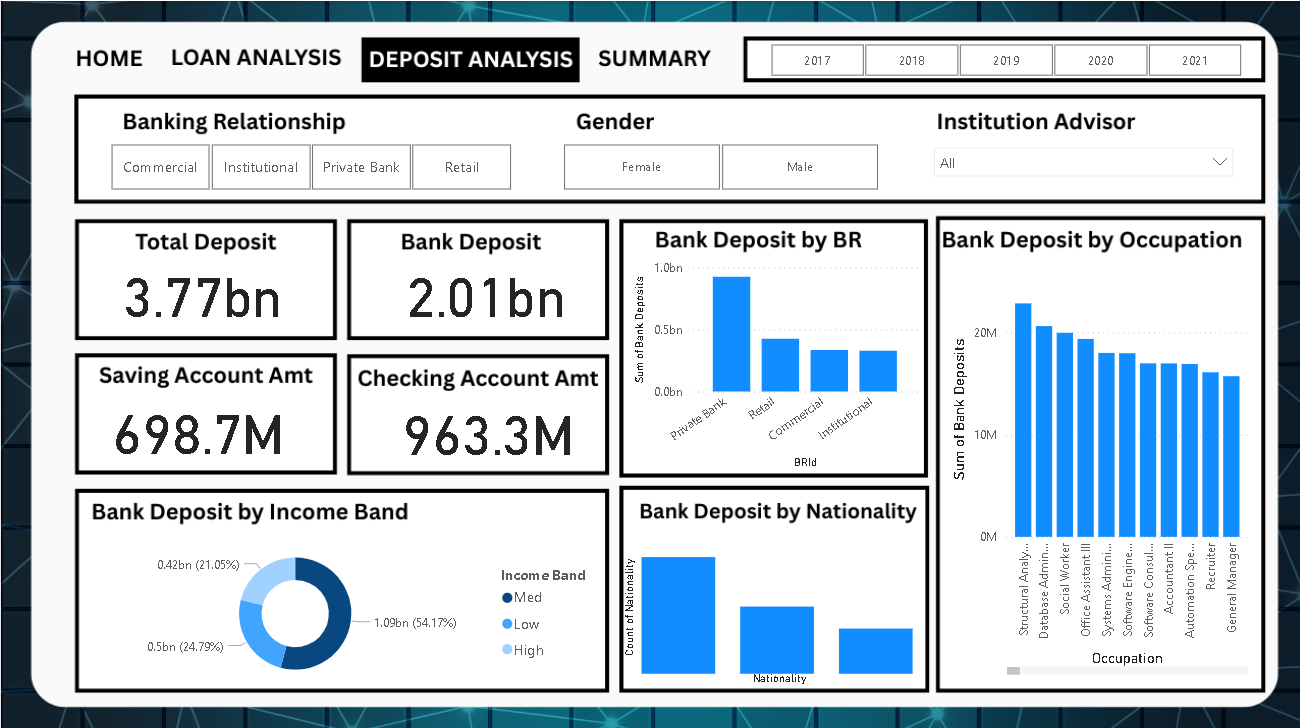

The page's visual inventory and layout, read from the dashboard file:
{"tool":"powerbi","page":{"name":"Deposit Analysis","canvas":[1280,720],"ordinal":2},"visuals":[{"type":"slicer","fields":{"Values":["banking_case customers.Year of Joining"]},"box":[729.5,35.2,511.6,44.7],"z":0},{"type":"actionButton","box":[66.3,39.3,87.1,44.2],"z":1000},{"type":"actionButton","box":[355.8,39.3,218.4,44.2],"z":2000},{"type":"actionButton","box":[582.8,39.3,122.7,44.2],"z":3000},{"type":"card","fields":{"Values":["banking_case customers.Total Deposit"]},"box":[101.5,250.4,193.5,67.7],"z":4000},{"type":"card","fields":{"Values":["Sum(banking_case customers.Bank Deposits)"]},"box":[380.3,250.4,193.5,67.7],"z":5000},{"type":"card","fields":{"Values":["Sum(banking_case customers.Saving Accounts)"]},"box":[101.5,385.7,182.7,66.3],"z":6000},{"type":"card","fields":{"Values":["Sum(banking_case customers.Checking Accounts)"]},"box":[381.6,387.1,193.5,66.3],"z":7000},{"type":"donutChart","fields":{"Category":["banking_case customers.Income Band"],"Y":["Sum(banking_case customers.Bank Deposits)"]},"box":[82.6,526.5,511.6,150.2],"z":8000},{"type":"clusteredColumnChart","fields":{"Category":["banking_case customers.BRId"],"Y":["Sum(banking_case customers.Bank Deposits)"]},"box":[615.8,247.7,289.6,216.5],"z":9000},{"type":"clusteredColumnChart","fields":{"Category":["banking_case customers.Nationality"],"Y":["CountNonNull(banking_case customers.Nationality)"]},"box":[606.3,515.6,299.1,161],"z":10000},{"type":"clusteredColumnChart","fields":{"Category":["banking_case customers.Occupation"],"Y":["Sum(banking_case customers.Bank Deposits)"]},"box":[927,261.2,301.8,404.7],"z":11000},{"type":"slicer","fields":{"Values":["banking_case customers.BRId"]},"box":[82.6,134,442.5,58.2],"z":12000},{"type":"slicer","fields":{"Values":["banking_case customers.GenderId"]},"box":[526.5,134,358.6,58.2],"z":13000},{"type":"slicer","fields":{"Values":["banking_case customers.IAId"]},"box":[905.4,134,314,58.2],"z":14000},{"type":"actionButton","box":[66.3,39.2,86.6,33.8],"z":15000},{"type":"actionButton","box":[162.4,39.2,175.9,33.8],"z":16000},{"type":"actionButton","box":[355.9,39.2,208.4,33.8],"z":17000},{"type":"actionButton","box":[575.2,39.2,143.5,33.8],"z":18000}]}

Visuals, with their boxes in screenshot pixels (x1, y1, x2, y2), scaled from the page's 1280x720 canvas onto the 1300x728 screenshot:
slicer - banking_case customers.Year of Joining: 741 36 1260 81
actionButton: 67 40 156 84
actionButton: 361 40 583 84
actionButton: 592 40 717 84
card - banking_case customers.Total Deposit: 103 253 300 322
card - Sum(banking_case customers.Bank Deposits): 386 253 583 322
card - Sum(banking_case customers.Saving Accounts): 103 390 289 457
card - Sum(banking_case customers.Checking Accounts): 388 391 584 458
donutChart - banking_case customers.Income Band x Sum(banking_case customers.Bank Deposits): 84 532 603 684
clusteredColumnChart - banking_case customers.BRId x Sum(banking_case customers.Bank Deposits): 625 250 920 469
clusteredColumnChart - banking_case customers.Nationality x CountNonNull(banking_case customers.Nationality): 616 521 920 684
clusteredColumnChart - banking_case customers.Occupation x Sum(banking_case customers.Bank Deposits): 941 264 1248 673
slicer - banking_case customers.BRId: 84 135 533 194
slicer - banking_case customers.GenderId: 535 135 899 194
slicer - banking_case customers.IAId: 920 135 1238 194
actionButton: 67 40 155 74
actionButton: 165 40 344 74
actionButton: 361 40 573 74
actionButton: 584 40 730 74
